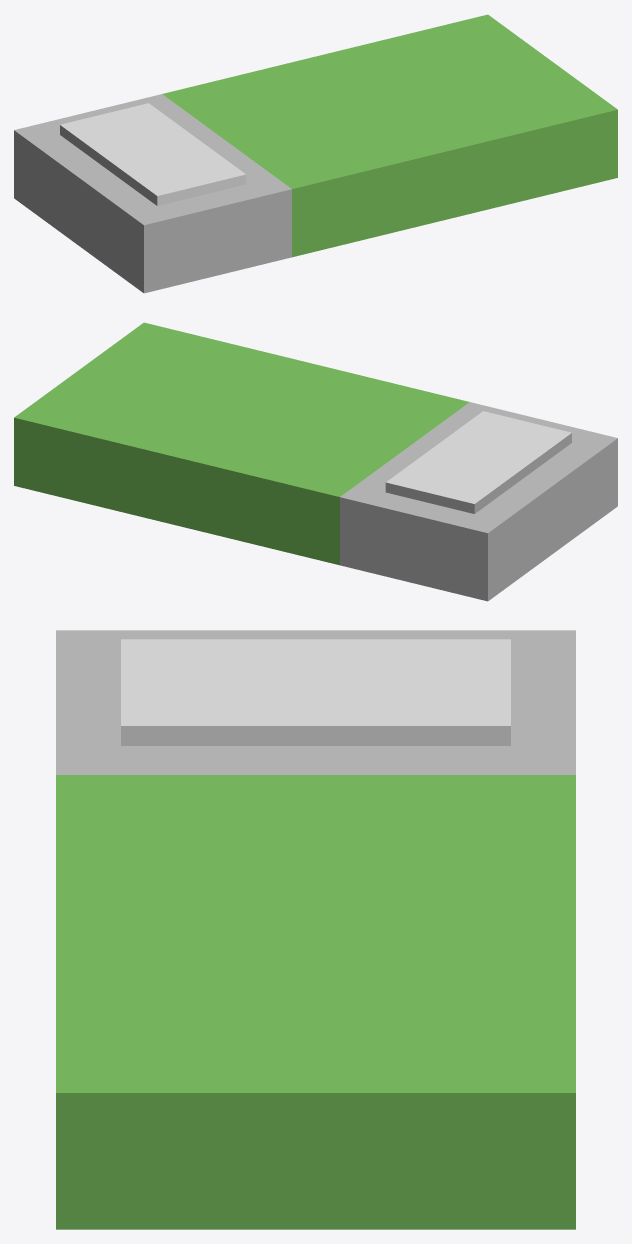
File: bed.gltf
3 views of the same model, one above another, from view 1: azimuth 30°, elevation 25°; view 2: azimuth 150°, elevation 25°; view 3: azimuth 270°, elevation 25° (orthographic). The views are drawn at different scales.
Visible parts, largest first — view 1: Cube; view 2: Cube; view 3: Cube.
Boxes of the visible parts, bbox=[...] form: Cube: bbox=[14, 14, 617, 293]; Cube: bbox=[14, 322, 617, 601]; Cube: bbox=[56, 630, 575, 1229].
Size of the model in its own units: 16 by 2.52 by 7.6.
